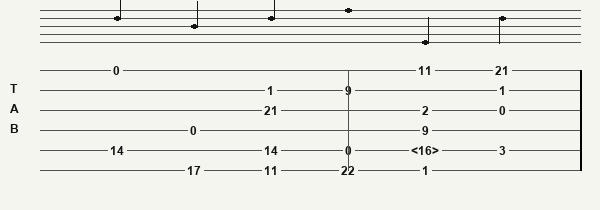0: (113, 64, 124, 77), (190, 124, 201, 137), (345, 144, 356, 157), (499, 104, 510, 117)
1: (267, 84, 278, 97), (422, 164, 433, 177), (499, 84, 510, 97)
11: (264, 164, 282, 177), (418, 64, 436, 77)
14: (110, 144, 128, 157), (264, 144, 282, 157)
17: (187, 164, 205, 177)
2: (422, 104, 433, 117)
21: (264, 104, 282, 117), (495, 64, 513, 77)
22: (341, 164, 359, 177)
3: (499, 144, 510, 157)
9: (345, 84, 356, 97), (422, 124, 433, 137)
harmonic: (411, 144, 443, 157)
